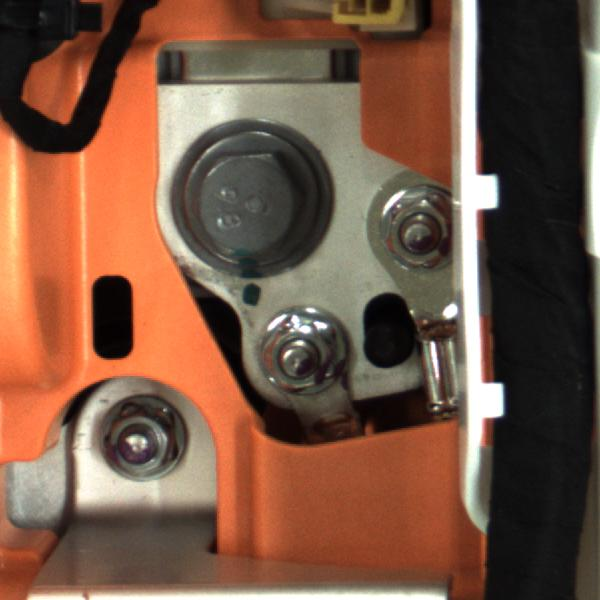nut_b: (150, 123, 344, 276)
screw_s: (237, 308, 351, 407), (375, 187, 458, 278), (99, 396, 181, 482)
